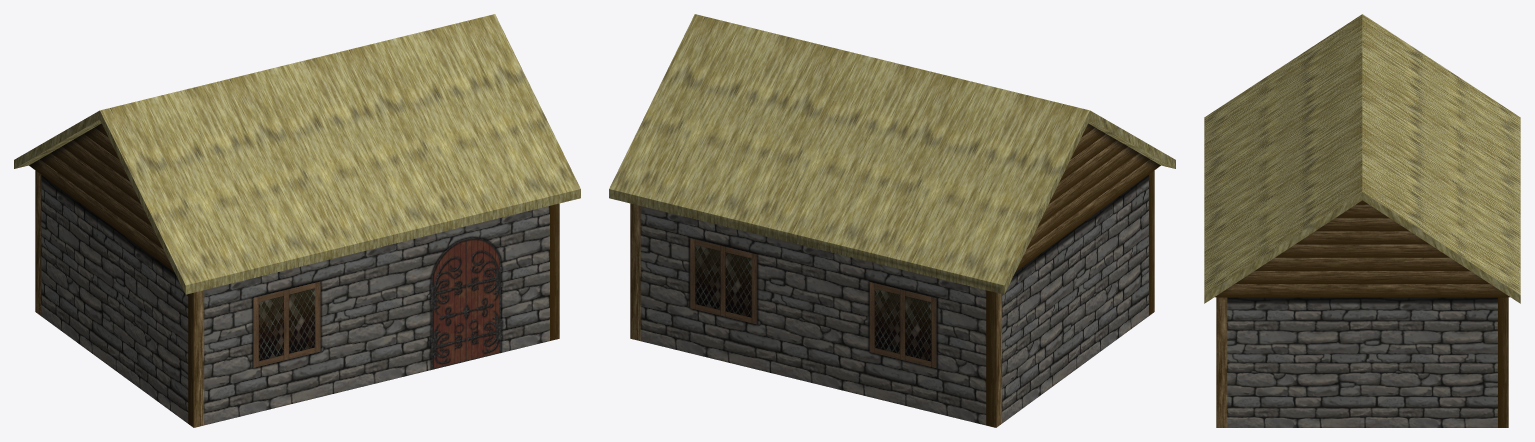
File: P_SmallHouse2.fbx
3 renders of one model, left to right at view 1: azimuth 30°, elevation 25°; view 2: azimuth 150°, elevation 25°; view 3: azimuth 270°, elevation 25°, orthographic. The views are drawn at different scales.
Visible parts, largest first — view 1: pCube3; view 2: pCube3; view 3: pCube3.
Boxes of the visible parts, <box> form: pCube3: <box>14,14,580,427</box>; pCube3: <box>609,14,1175,427</box>; pCube3: <box>1204,14,1520,427</box>.
Bounding box in the file's own units: 865 × 550 × 650.
1 material, 1 textured.
